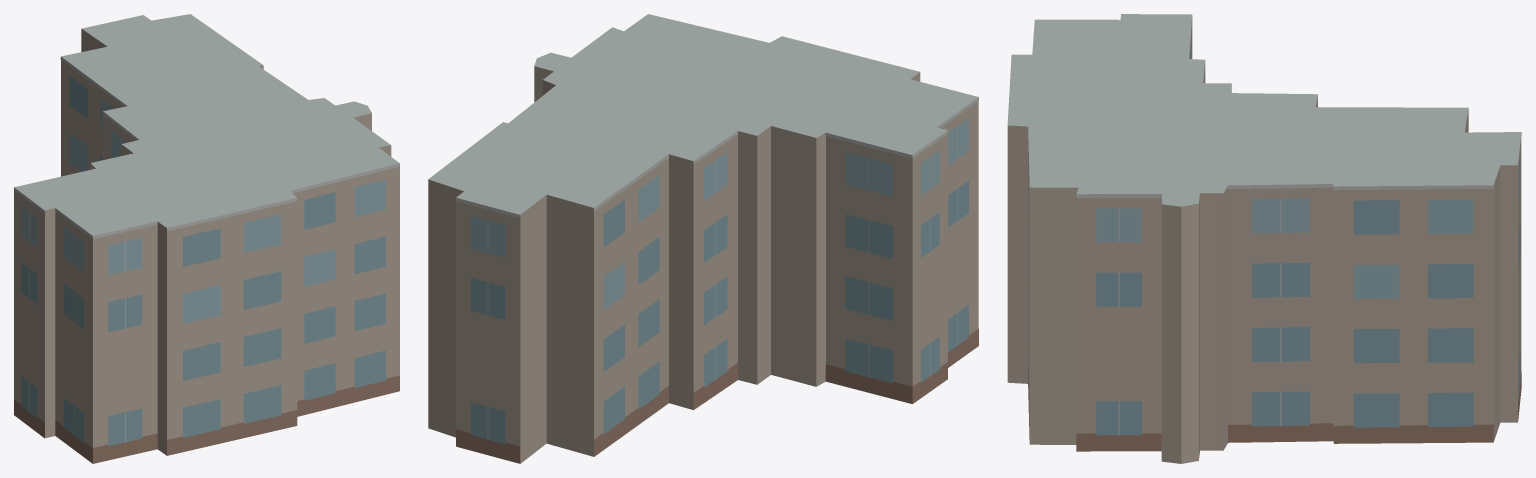
File: survey-upis-32497149.glb
3 views of the same model, side by side, from view 1: azimuth 30°, elevation 25°; view 2: azimuth 150°, elevation 25°; view 3: azimuth 270°, elevation 25° (orthographic). The views are drawn at different scales.
Visible parts, largest first — view 1: survey-upis-32497149.tmp; view 2: survey-upis-32497149.tmp; view 3: survey-upis-32497149.tmp.
Boxes of the visible parts, x1,y1,x2,y2 form: survey-upis-32497149.tmp: (14,14,399,463); survey-upis-32497149.tmp: (428,14,978,463); survey-upis-32497149.tmp: (1007,14,1521,463).
Size of the model in its own units: 27.3 by 17 by 30.78.
